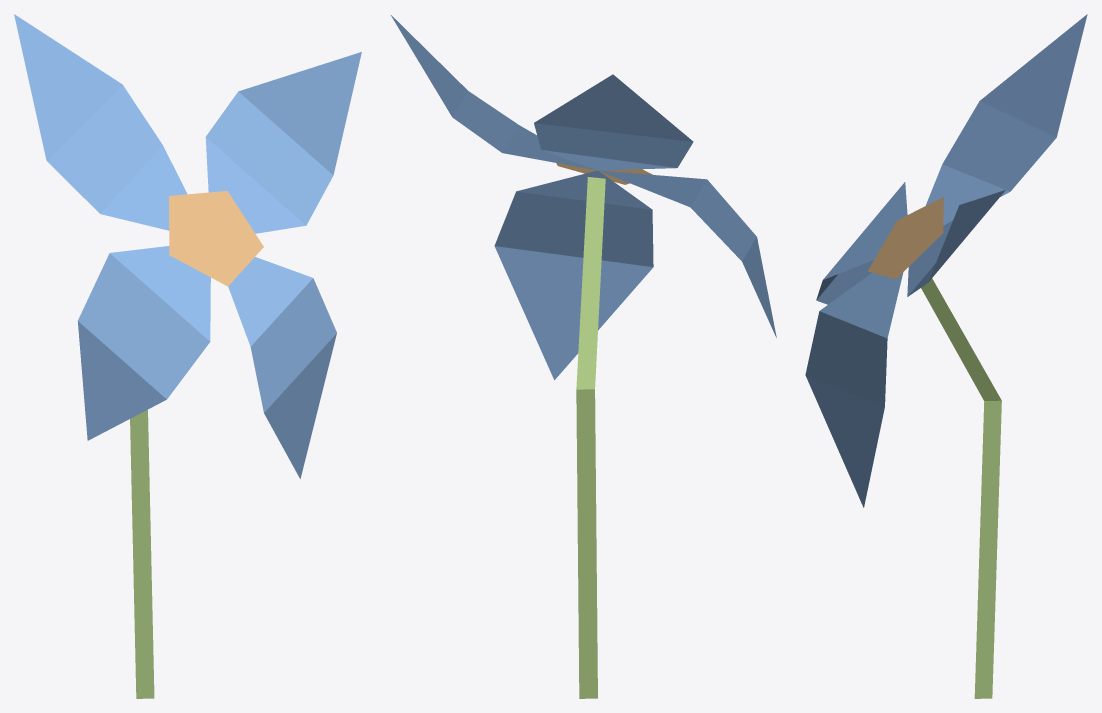
File: Flower_a_TwoS_06.fbx
3 renders of one model, left to right at view 1: azimuth 30°, elevation 25°; view 2: azimuth 150°, elevation 25°; view 3: azimuth 270°, elevation 25°, orthographic. The views are drawn at different scales.
Parts seen in each view (by area): view 1: Flower_a_TwoS_06; view 2: Flower_a_TwoS_06; view 3: Flower_a_TwoS_06.
Part boxes in pixels (left/top/right/bottom): Flower_a_TwoS_06: left=14, top=14, right=361, bottom=698; Flower_a_TwoS_06: left=391, top=15, right=776, bottom=698; Flower_a_TwoS_06: left=805, top=14, right=1087, bottom=698.
Bounding box in the file's own units: 0.357 × 0.6952 × 0.2754.
